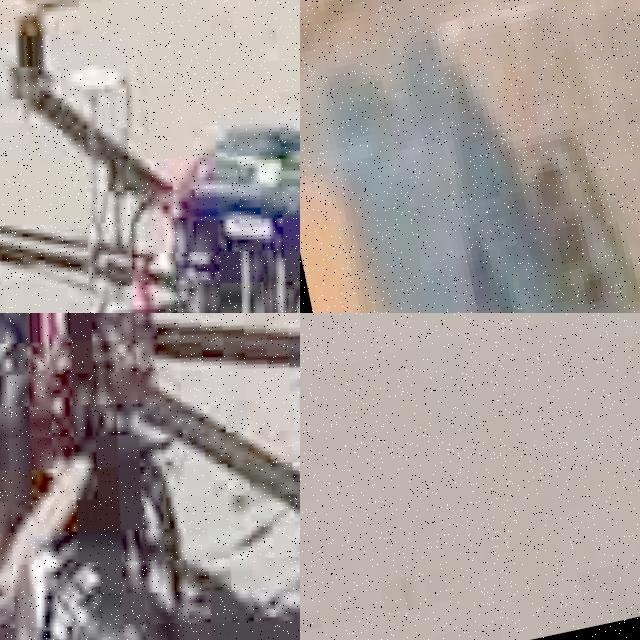drone: (0, 313, 300, 640), (0, 0, 300, 313)
